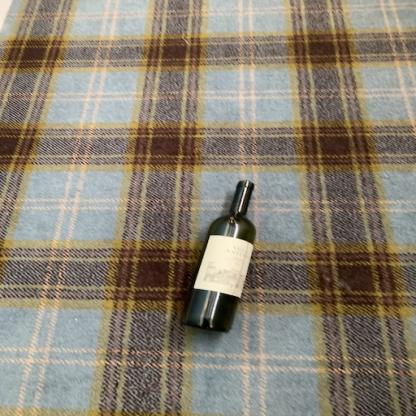trash: (180, 178, 264, 334)
